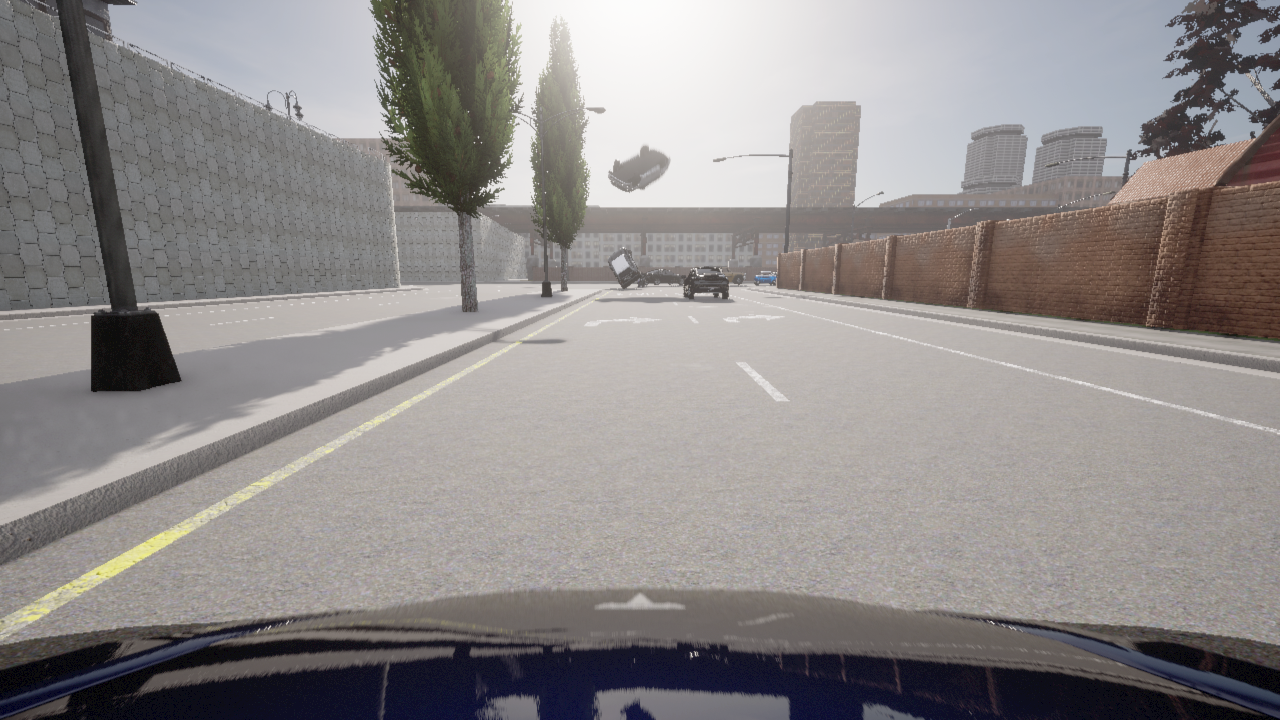cyclist: (0, 588, 1279, 719), (607, 144, 670, 192), (681, 267, 728, 299), (608, 248, 641, 288), (644, 269, 684, 285), (715, 266, 745, 284), (754, 271, 775, 284), (637, 275, 645, 287), (773, 271, 776, 276)
